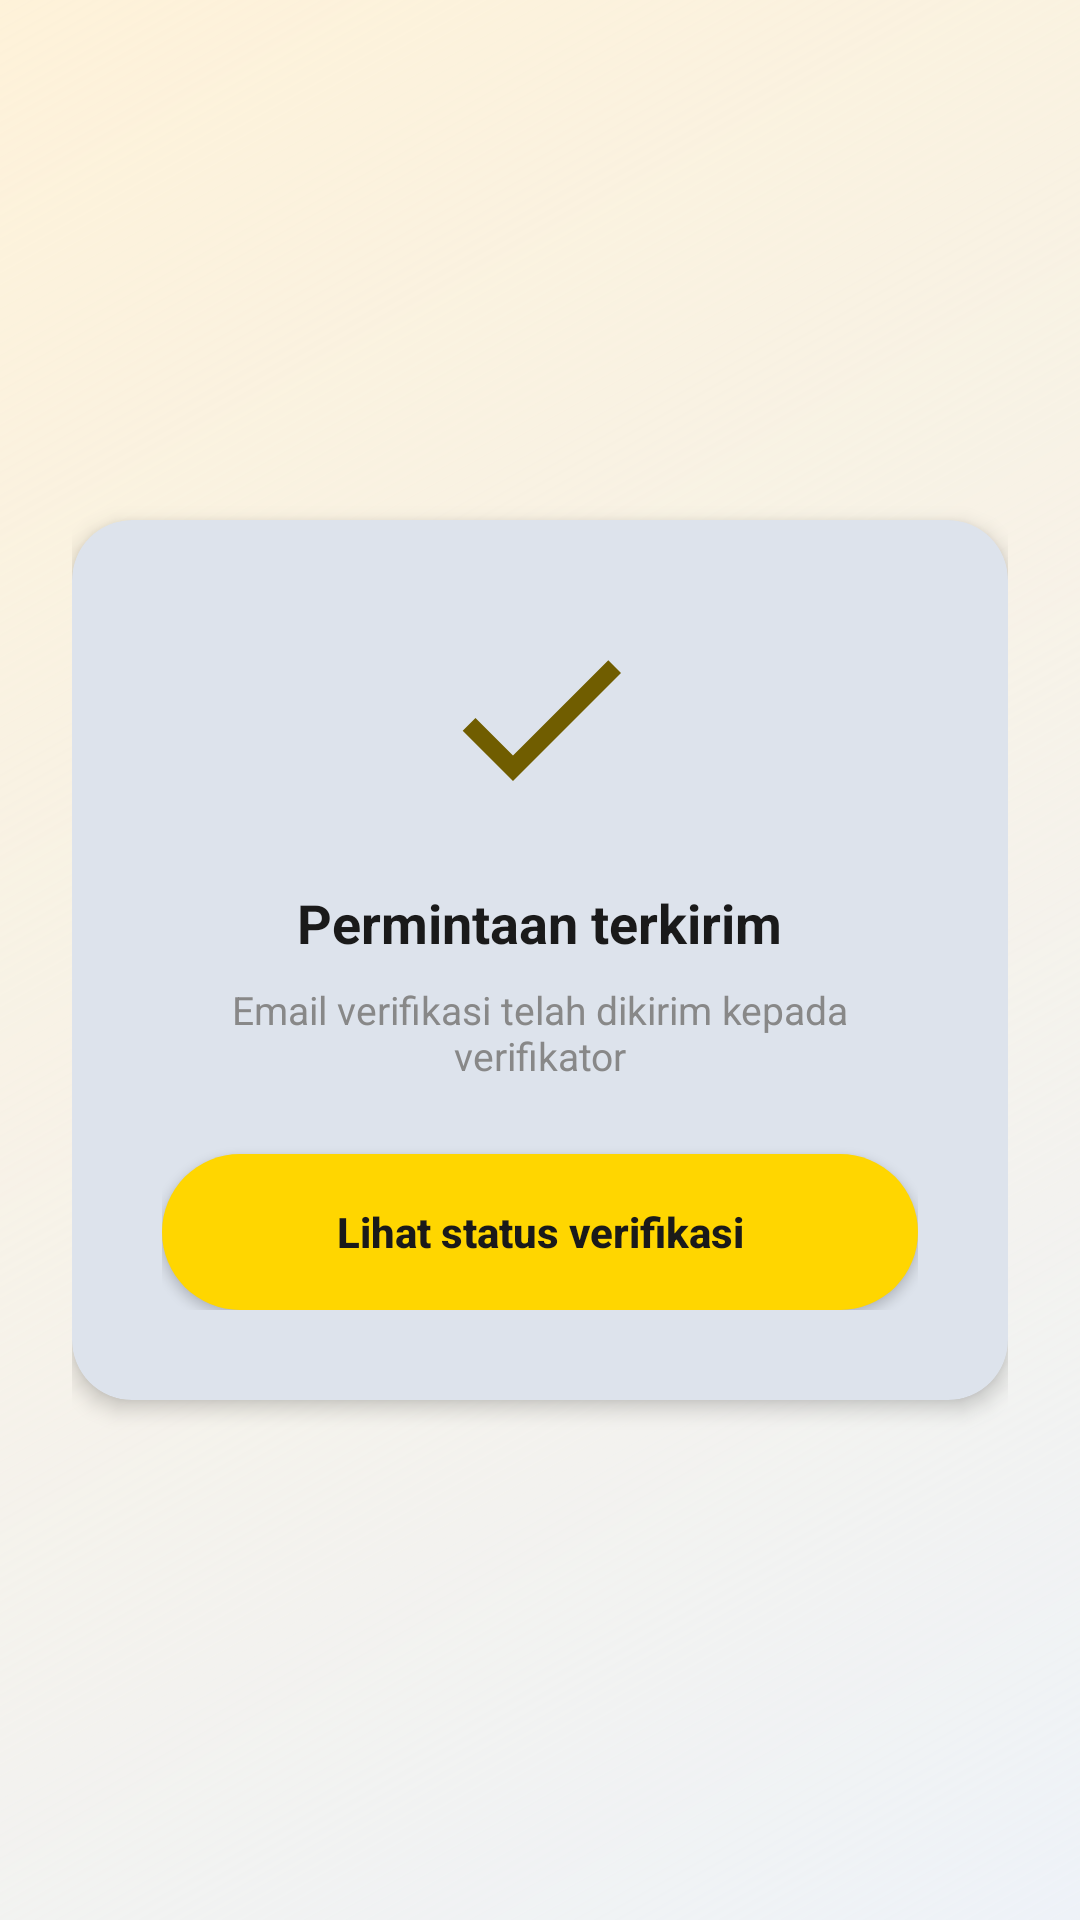

Where icons sit on this 1080 × 1920 app screen, as (x1, y1, x2, y2):
Success checkmark icon: (463, 660, 621, 781)
